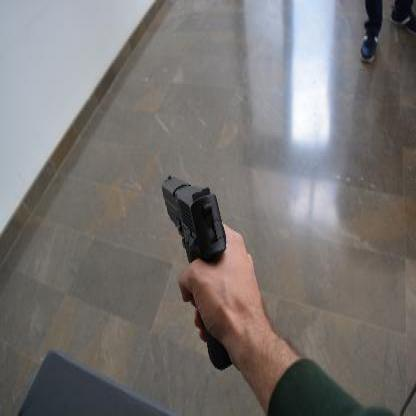pistol: (161, 173, 233, 369)
